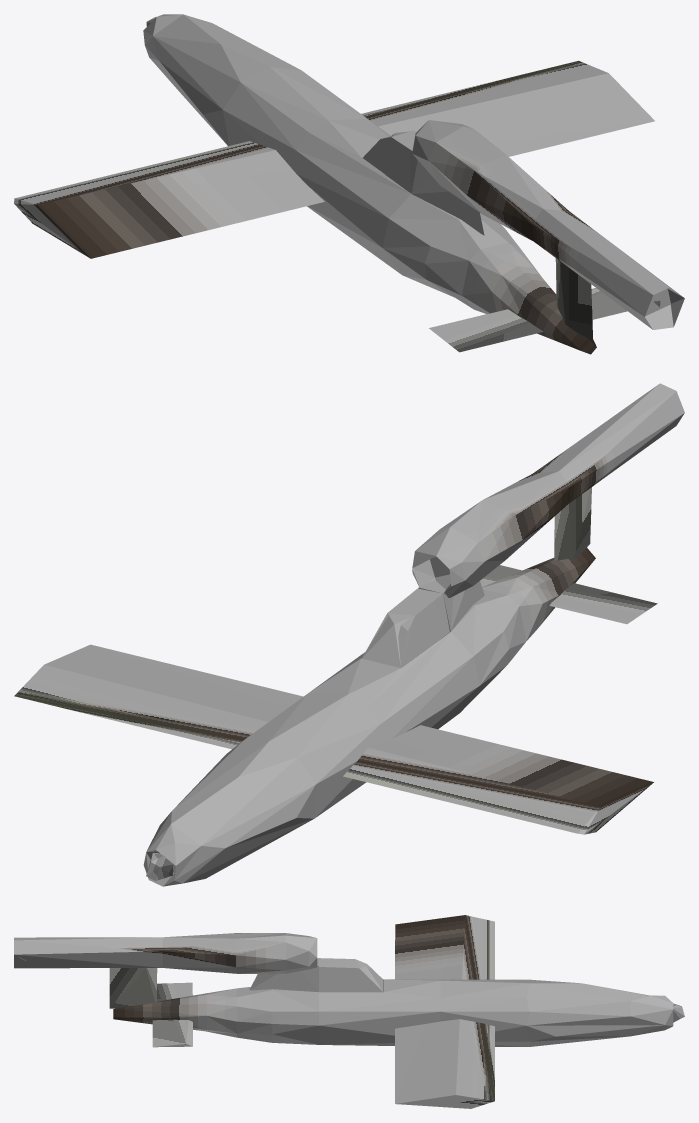
The picture shows the model from 3 angles, top to bottom: view 1: azimuth 30°, elevation 25°; view 2: azimuth 150°, elevation 25°; view 3: azimuth 270°, elevation 25°; orthographic projection. The views are drawn at different scales.
Visible parts, largest first — view 1: defaultMaterial; view 2: defaultMaterial; view 3: defaultMaterial.
Boxes of the visible parts, box(x1,y1,x2,y2) form: defaultMaterial: box(14, 14, 684, 354); defaultMaterial: box(14, 383, 684, 886); defaultMaterial: box(14, 915, 684, 1108).
Bounding box in the file's own units: 3.11 × 0.879 × 4.88.
1 material, 1 textured.
